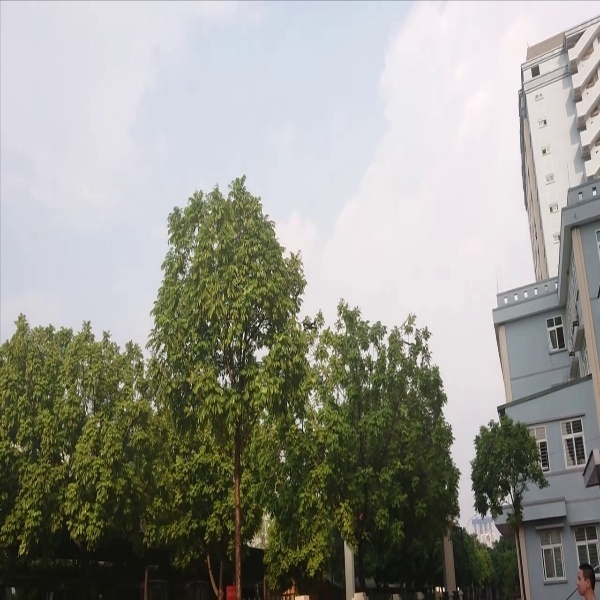drone: (299, 313, 326, 335)
